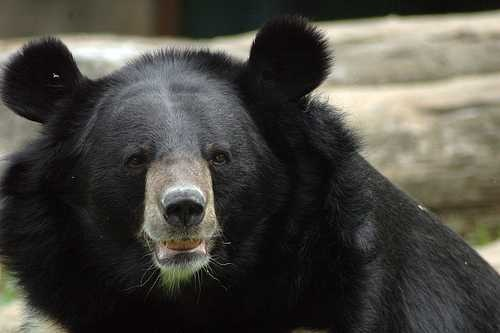bear: (116, 154, 244, 282), (222, 4, 350, 132), (1, 28, 127, 156)
